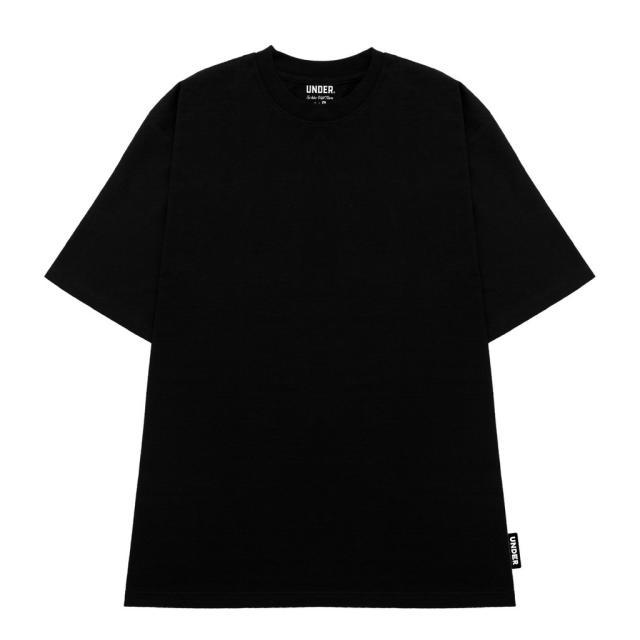Shirt: (41, 39, 602, 620)
